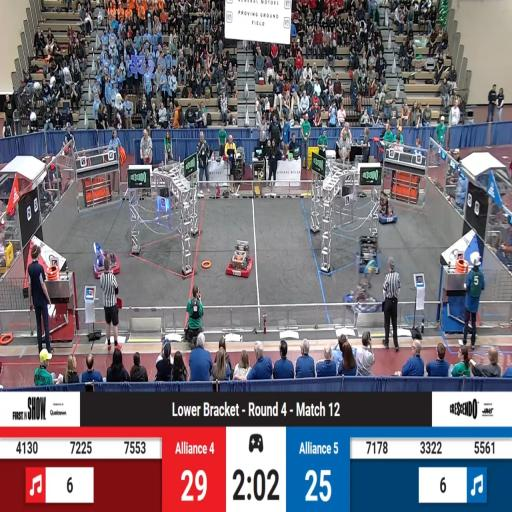robot: (355, 235, 382, 274), (226, 242, 252, 277), (346, 287, 380, 313), (94, 245, 120, 276), (375, 195, 398, 223)
